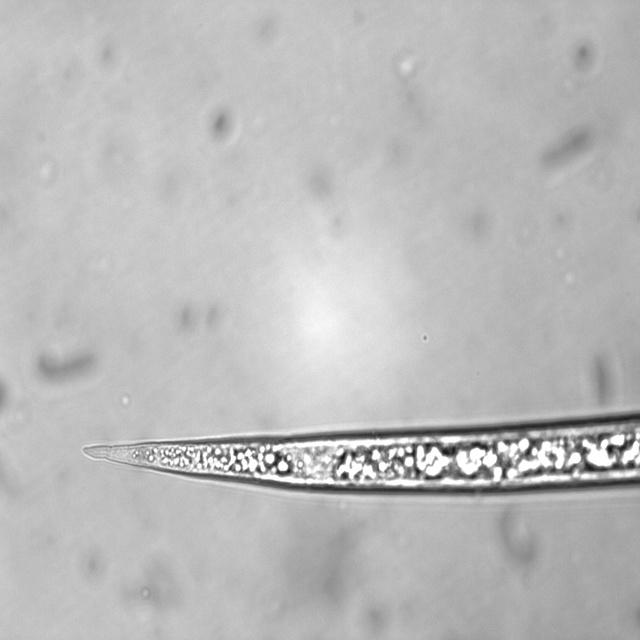Meloidogyne: (77, 406, 640, 506)
